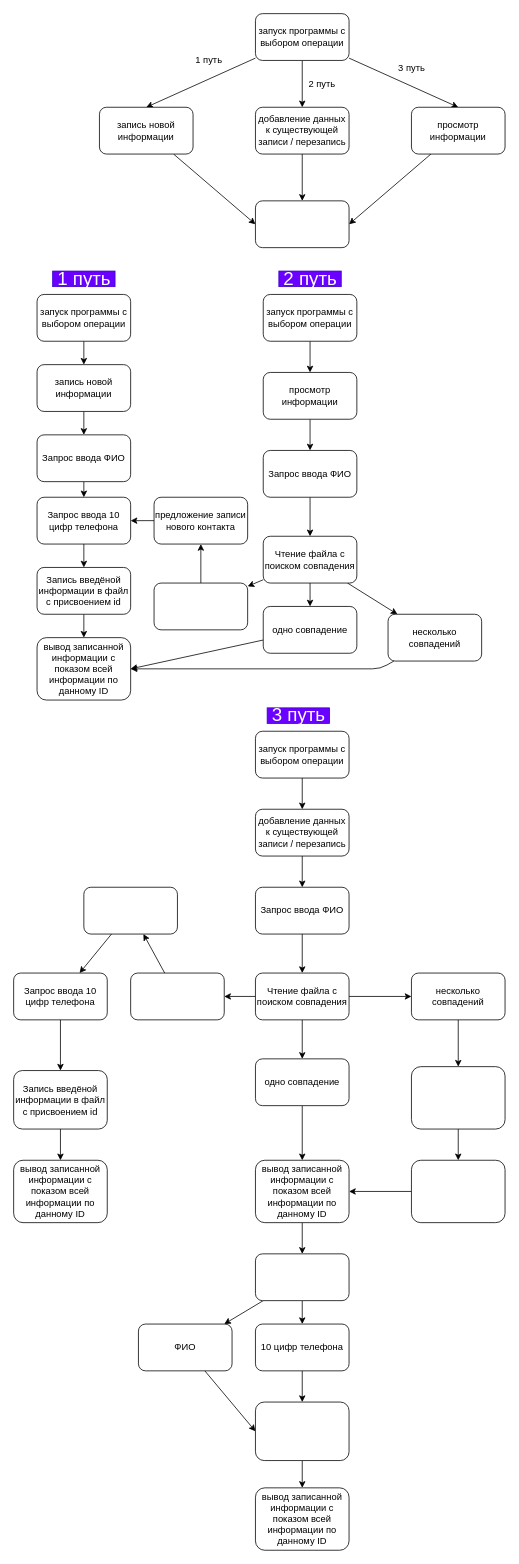
Some shapes in this 519 by 1564 pixel diagram are drawn without their labels. The centre of each missing label's shape, as x and y in pixels:
вывод записанной информации с показом всей информации нескольким ID: (458,1097)
Запрос ввода нового контакта: (130,910)
Запрос выбора ID интересующего абонента: (458,1191)
запрос выбора информации, которую желаем заменить: (302,1277)
нет совпадений: (200,606)
нет совпадения: (177,996)
Перезапись информации в файле: (302,1431)
Файл с записями: (302,224)
